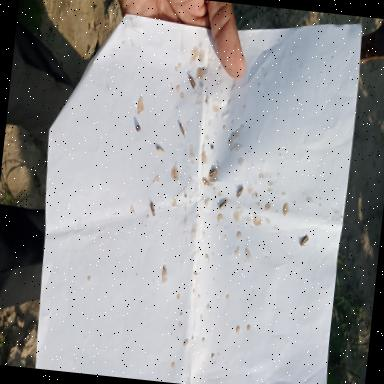pbw: (298, 234, 310, 250), (188, 74, 198, 90), (178, 122, 187, 139), (148, 201, 157, 218), (236, 186, 244, 199), (218, 201, 227, 212), (208, 169, 218, 178), (156, 146, 165, 154), (202, 178, 210, 186)
